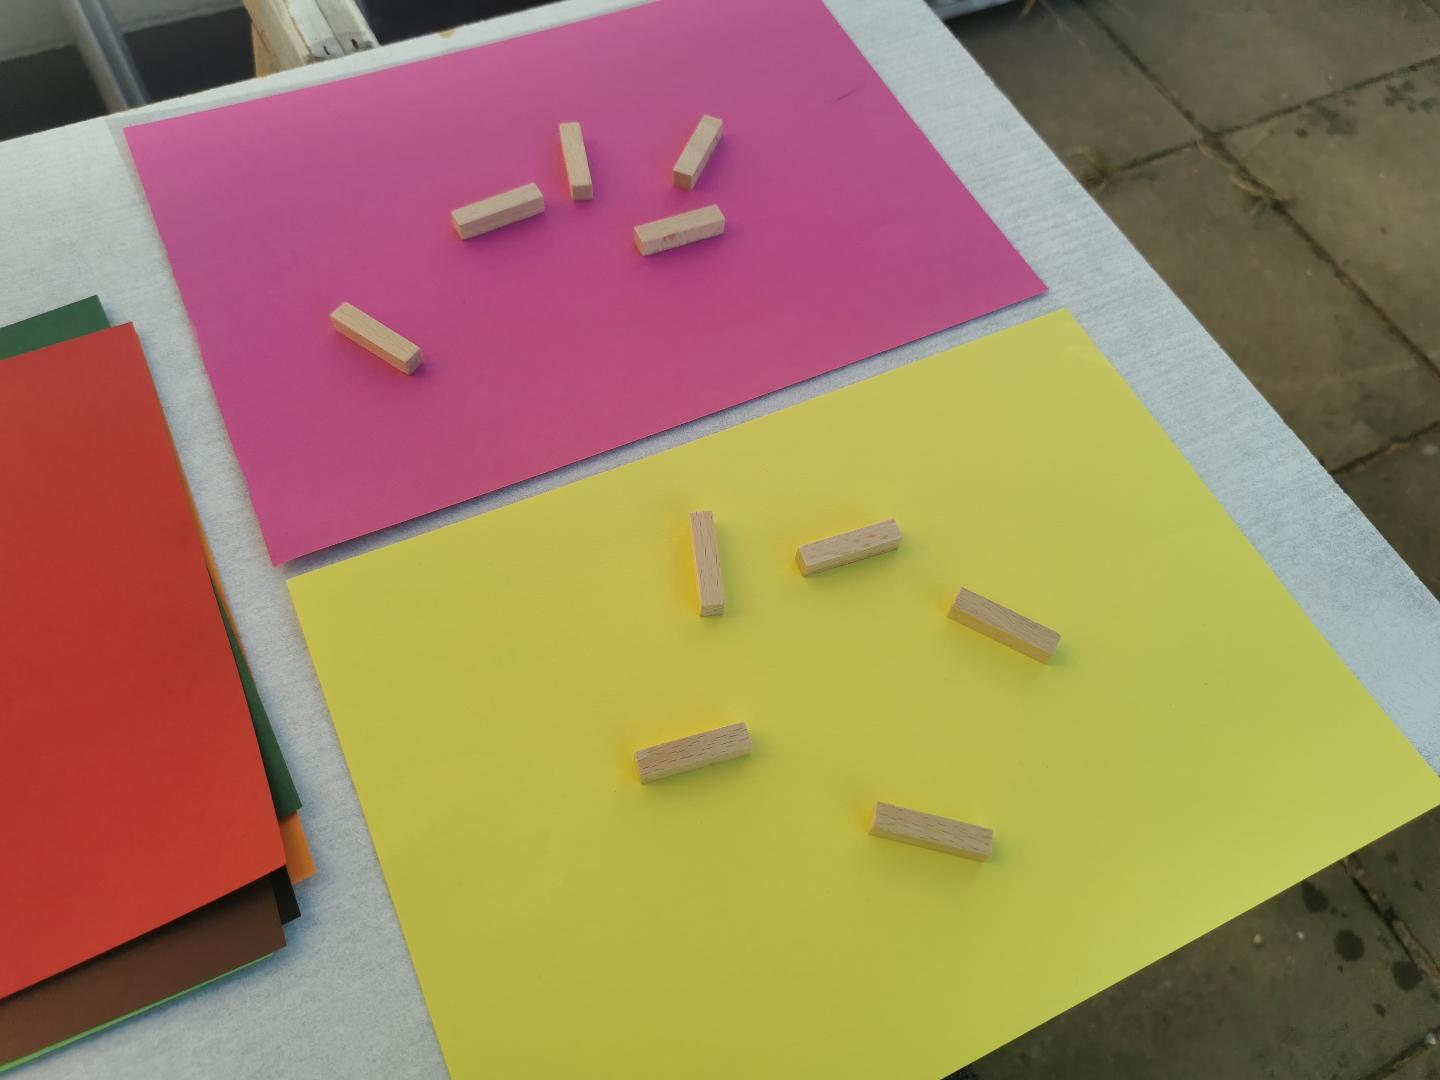jenga: (948, 588, 1060, 664), (869, 802, 993, 861), (636, 723, 751, 785), (329, 304, 422, 374), (796, 521, 903, 576), (452, 183, 545, 239), (636, 205, 726, 256), (689, 512, 726, 616), (672, 116, 722, 188), (560, 121, 593, 200)
